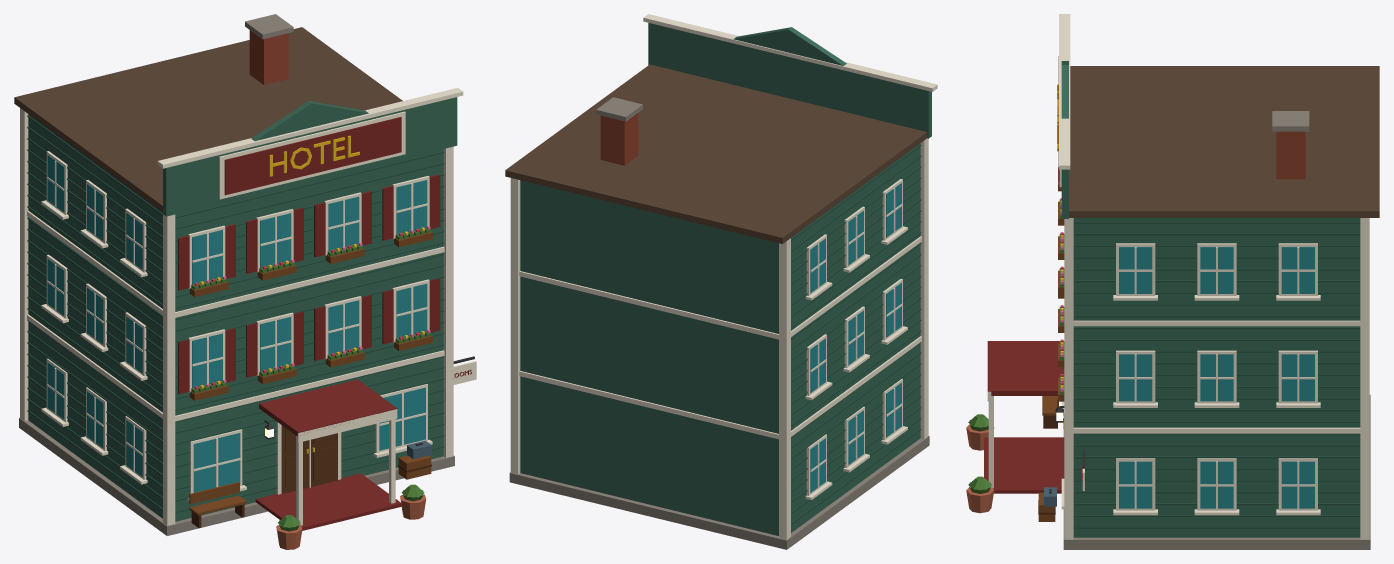
File: Building_Hotel.fbx
3 views of the same model, side by side, from view 1: azimuth 30°, elevation 25°; view 2: azimuth 150°, elevation 25°; view 3: azimuth 270°, elevation 25° (orthographic). The views are drawn at different scales.
Visible parts, largest first — view 1: Building_Hotel; view 2: Building_Hotel; view 3: Building_Hotel.
Boxes of the visible parts, x1,y1,x2,y2 form: Building_Hotel: (14,14,476,549); Building_Hotel: (505,14,937,549); Building_Hotel: (966,14,1379,549).
Size of the model in its own units: 10.5 by 12.3 by 11.18.
